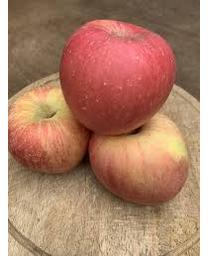apple: (59, 19, 177, 134), (89, 113, 189, 205), (7, 85, 88, 173)
